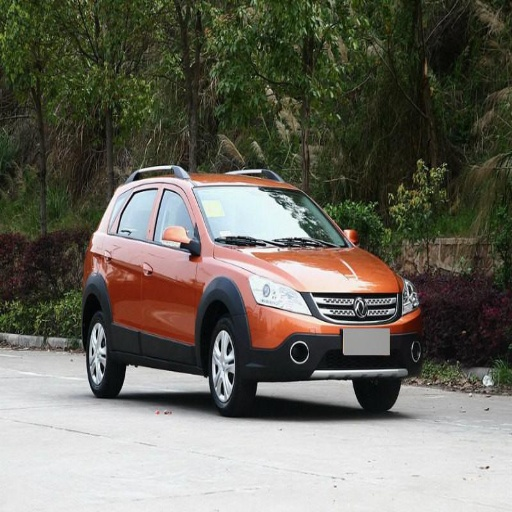front_bumper: (246, 290, 423, 377)
front_right_door: (142, 182, 203, 360)
front_right_light: (255, 278, 311, 315)
